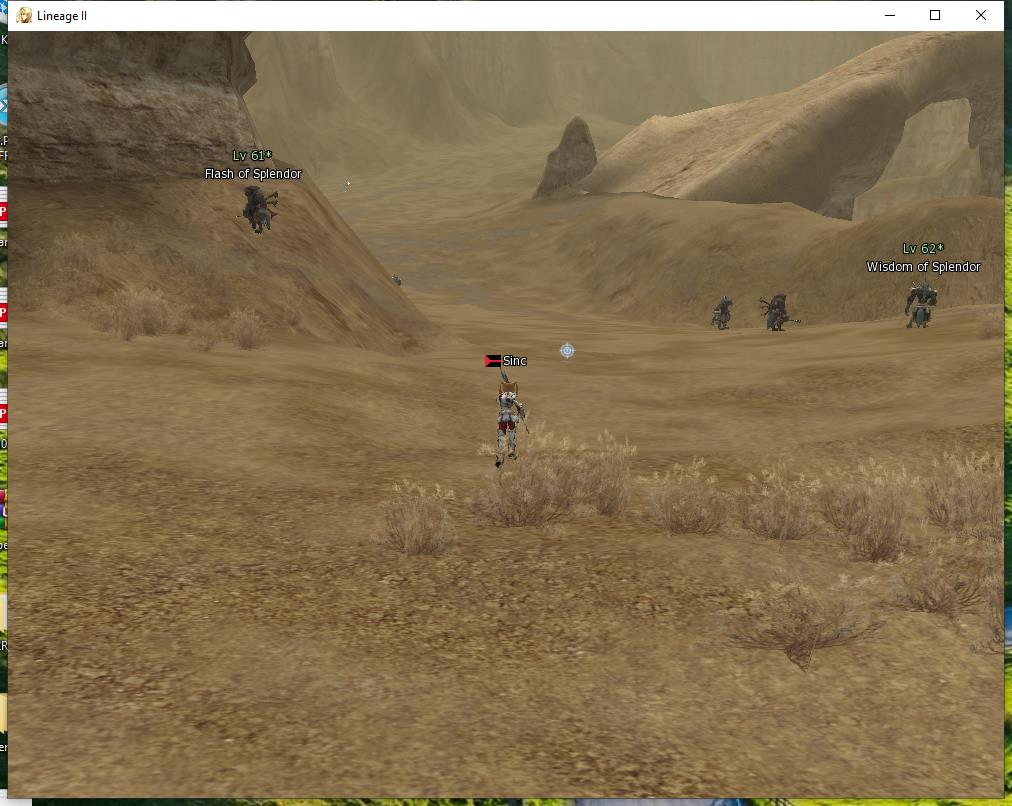monster: (875, 238, 965, 328), (222, 137, 289, 235), (756, 290, 804, 336), (698, 290, 748, 324)
